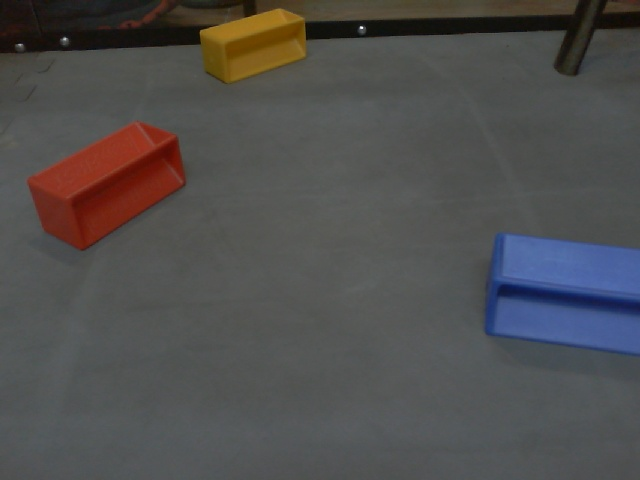BlueSample: (486, 231, 640, 358)
RedSample: (25, 117, 188, 254)
YellowSample: (197, 6, 309, 84)
